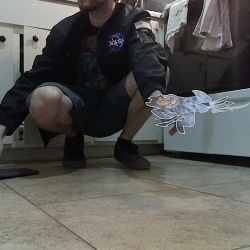sparky: (144, 88, 236, 136)
